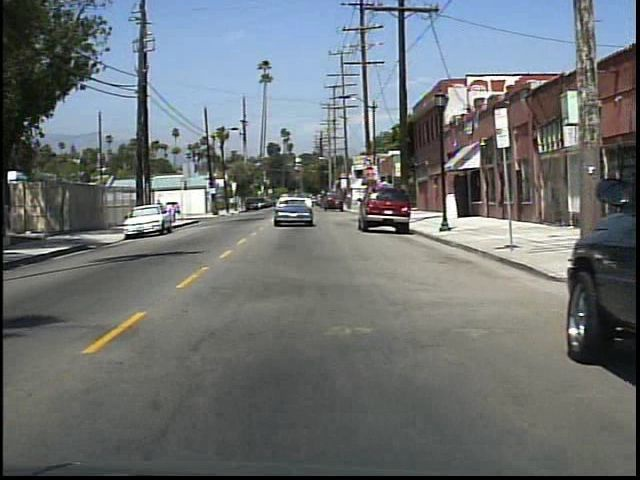person: (154, 195, 167, 224), (168, 199, 181, 224)
